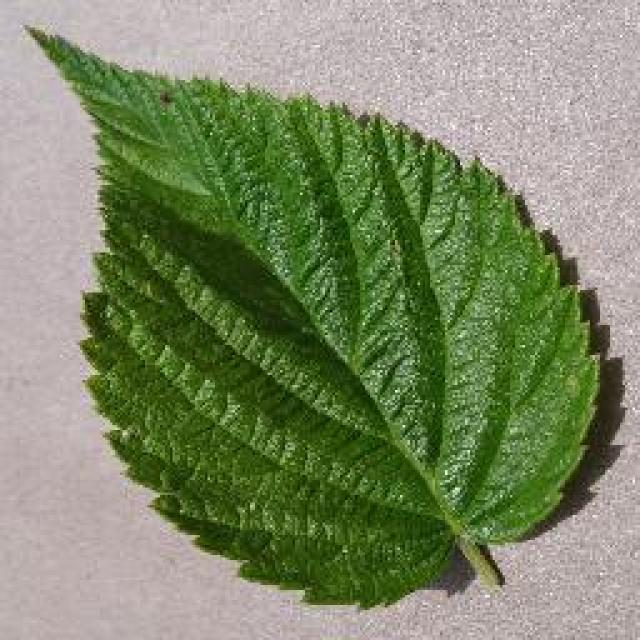Ras_healthy: (87, 75, 562, 562)
